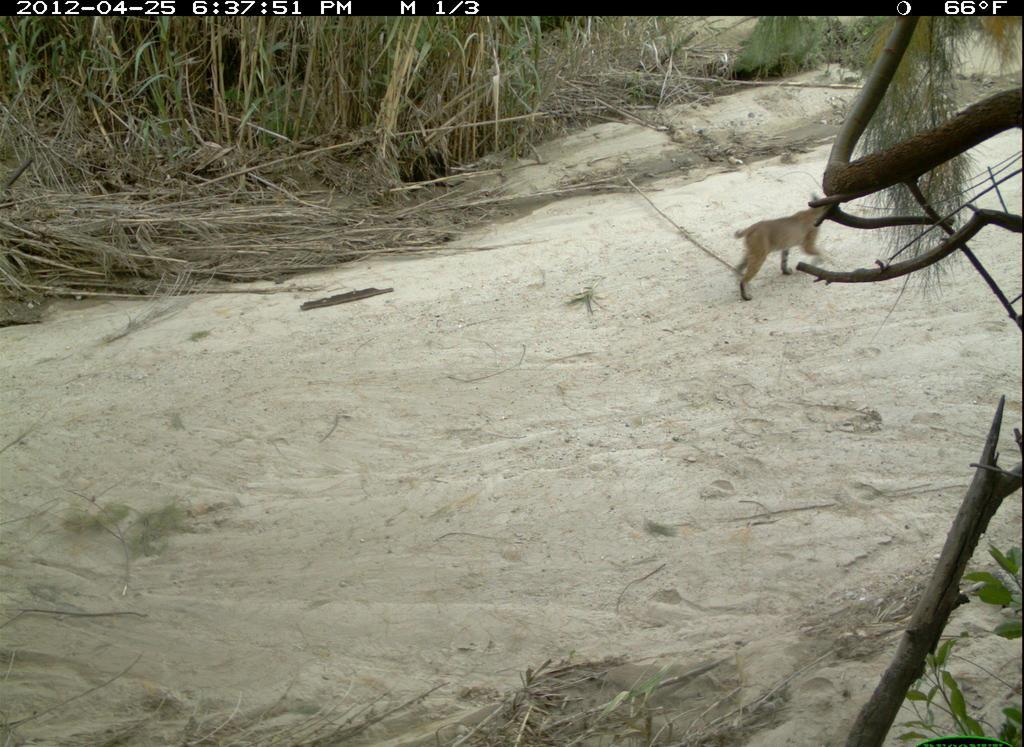bobcat: (720, 189, 849, 308)
